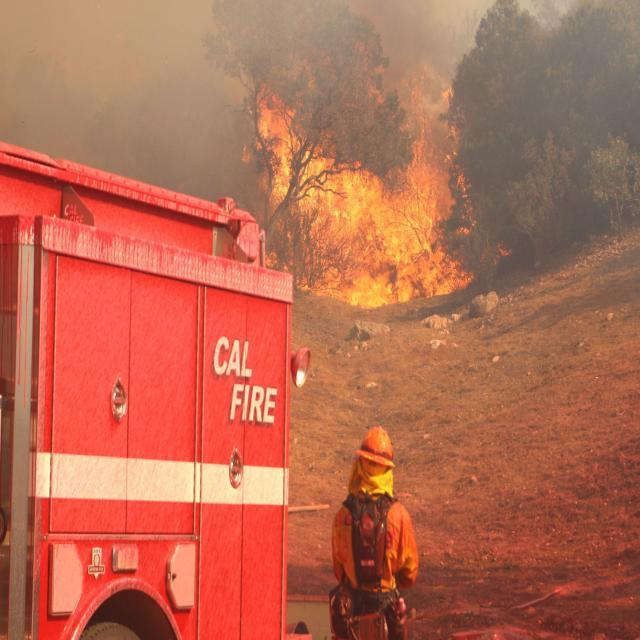Fire: (230, 65, 487, 314)
